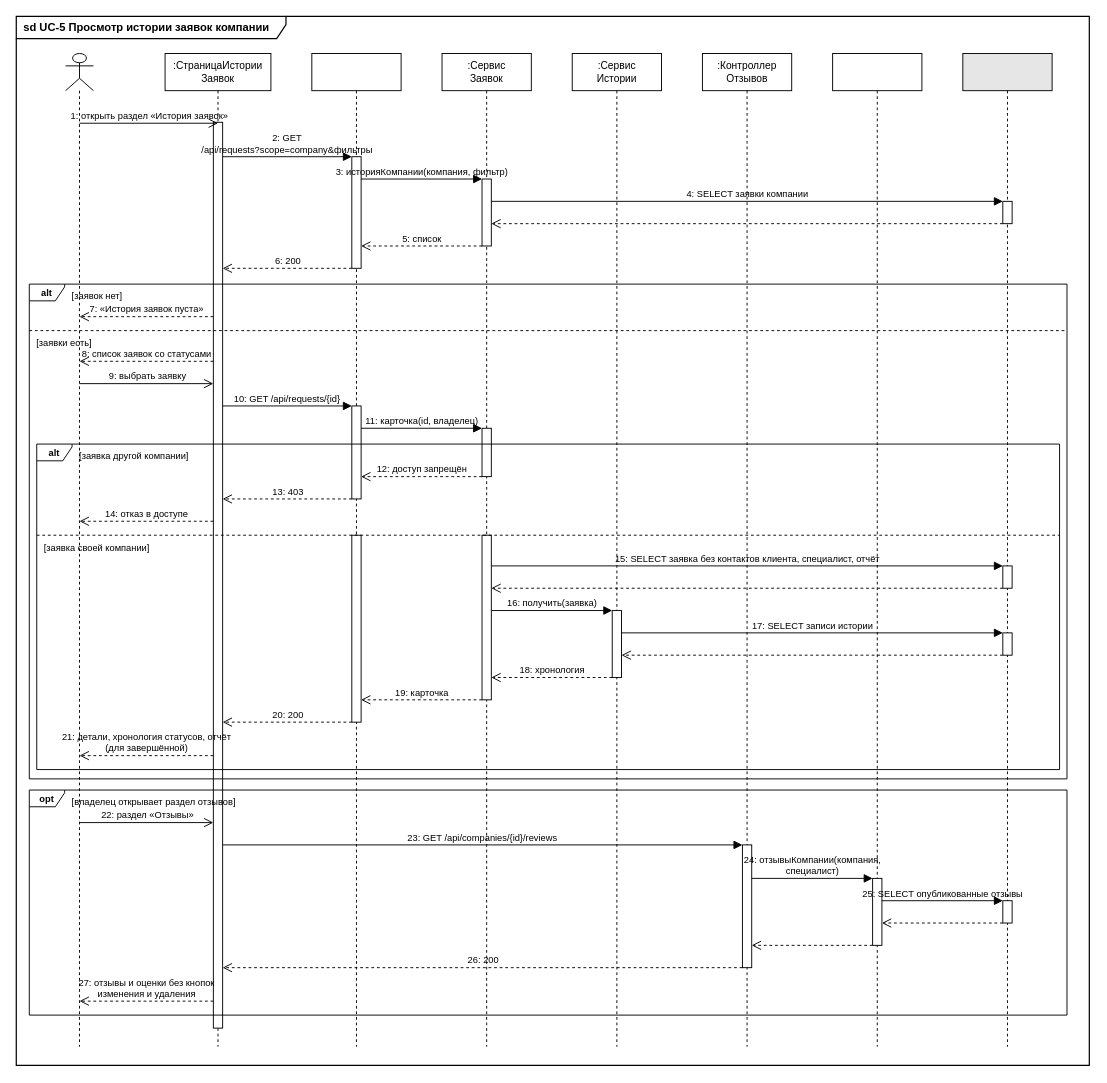
Some shapes in this 1107 by 1083 pixel diagram are drawn without their labels. The shapes that lost their labels are listed below. From the top down, each one's box as (x1, y1, x2, y2) in pixels, then its label:
(65, 53, 93, 1047): Владелец компании
(311, 53, 401, 1047): :Контроллер Заявок
(832, 53, 922, 1047): :Сервис Отзывов
(962, 53, 1052, 1047): :PostgreSQL
